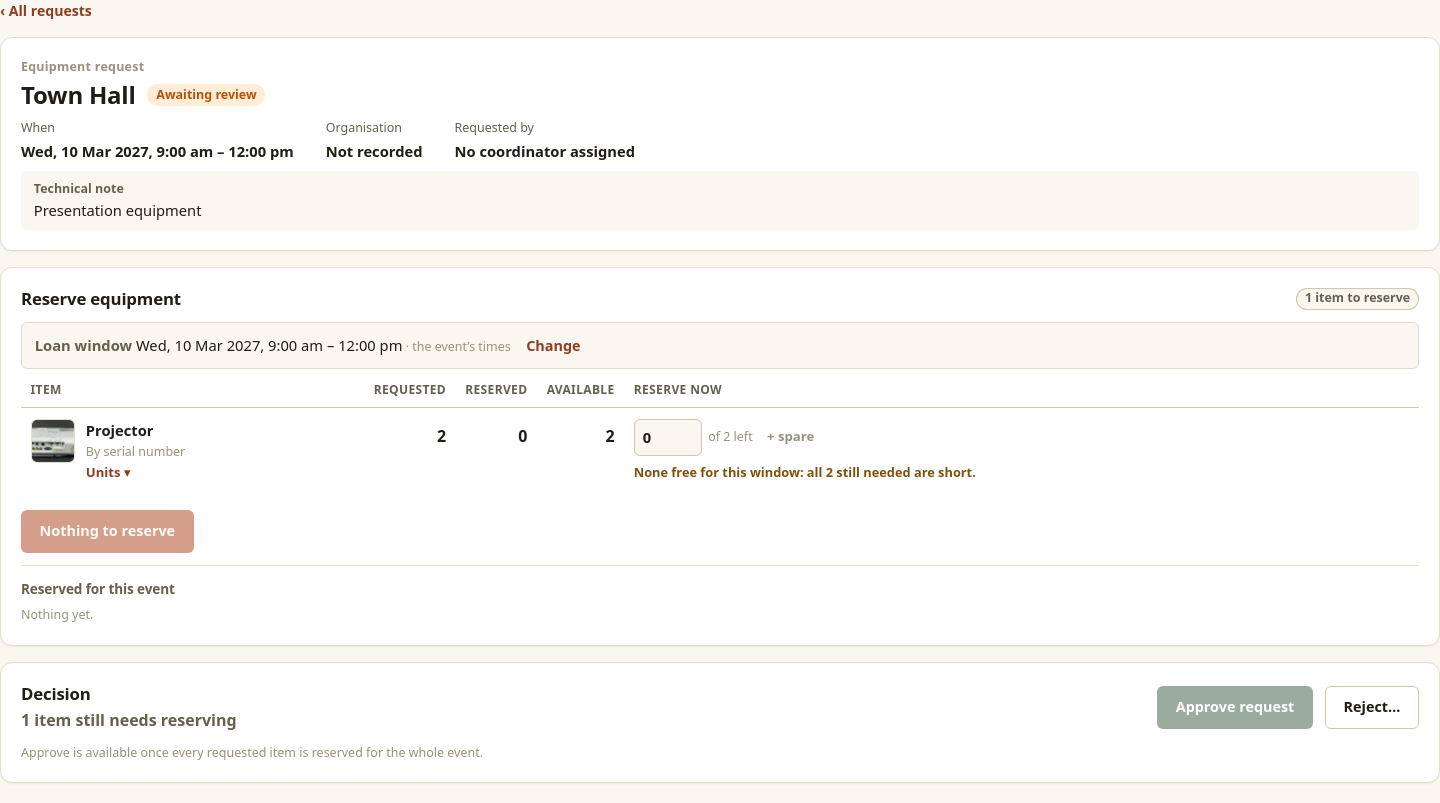
Test: TS01 equipment request review › TS01 (negative): flags a request when enough stock exists but no units are suitable
Expected: the heading "Town Hall" is shown, [21,81,136,110]
Expected: the text "None free for this window: all 2 still needed are short." is shown, [634,463,976,481]
Click the button "Units ▾" at (108, 473), box [86,463,130,482]
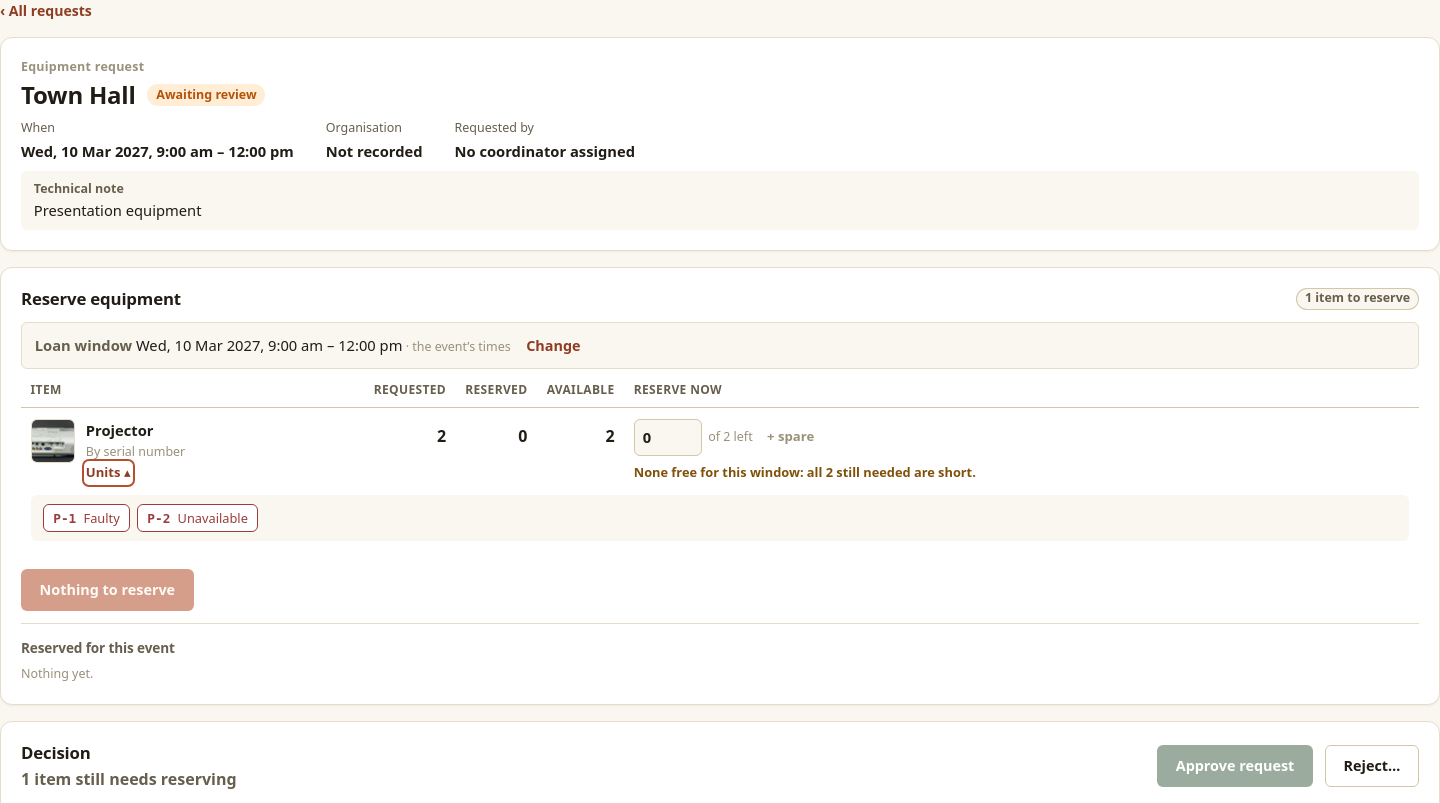
Expected: the button "Nothing to reserve" is disabled, [21,569,194,612]
Expected: the text "Faulty" is shown, [84,508,120,528]
Expected: the text "Unavailable" is shown, [178,508,248,528]
